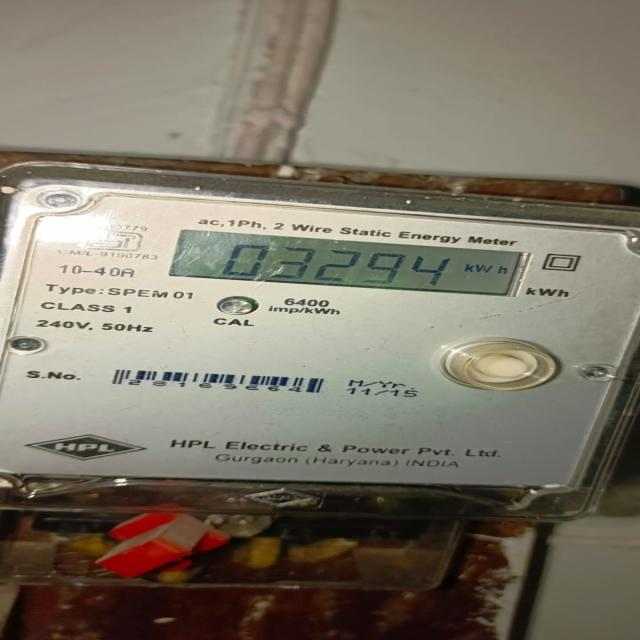display: (186, 230, 520, 299)
